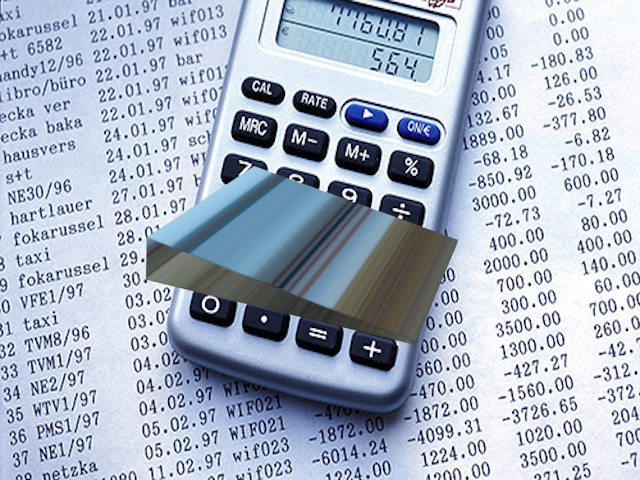ring_binder: (144, 160, 464, 352)
